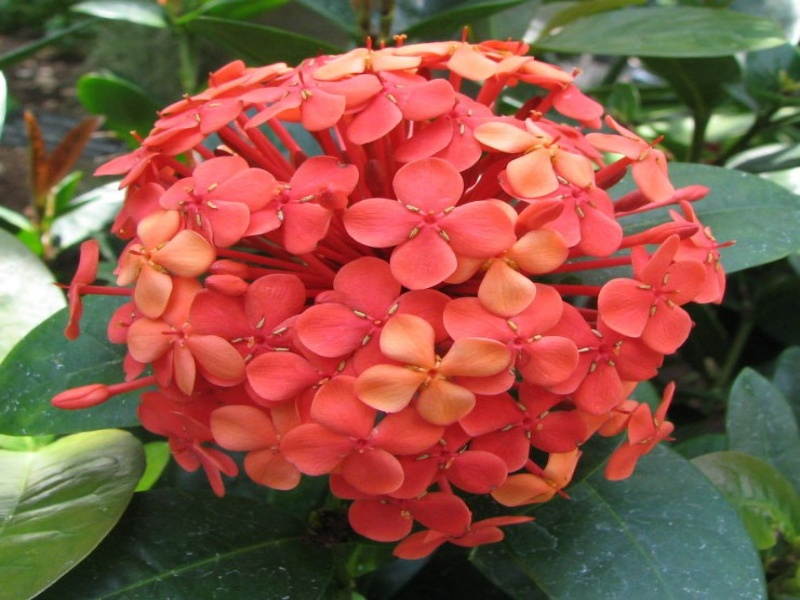Ixora: (30, 19, 756, 570)
